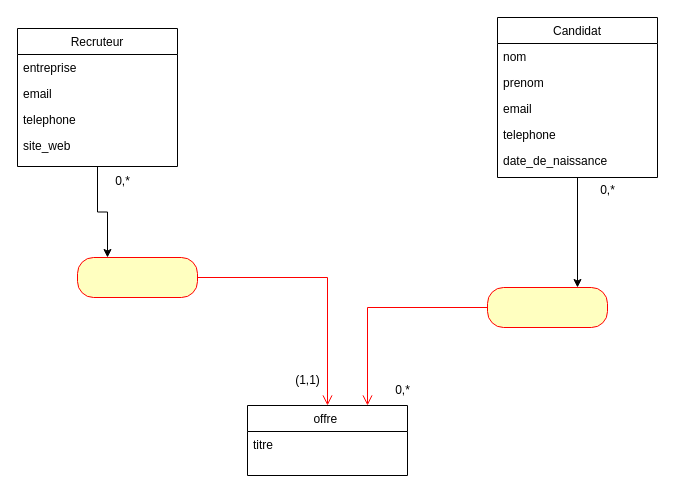
Some shapes in this 675 by 493 pixel diagram are drawn without their labels. Here are the shapes that lost their labels. From the top down, the centre of each, then its label:
At (x=137, y=277): "publie".
At (x=547, y=307): "postule".
